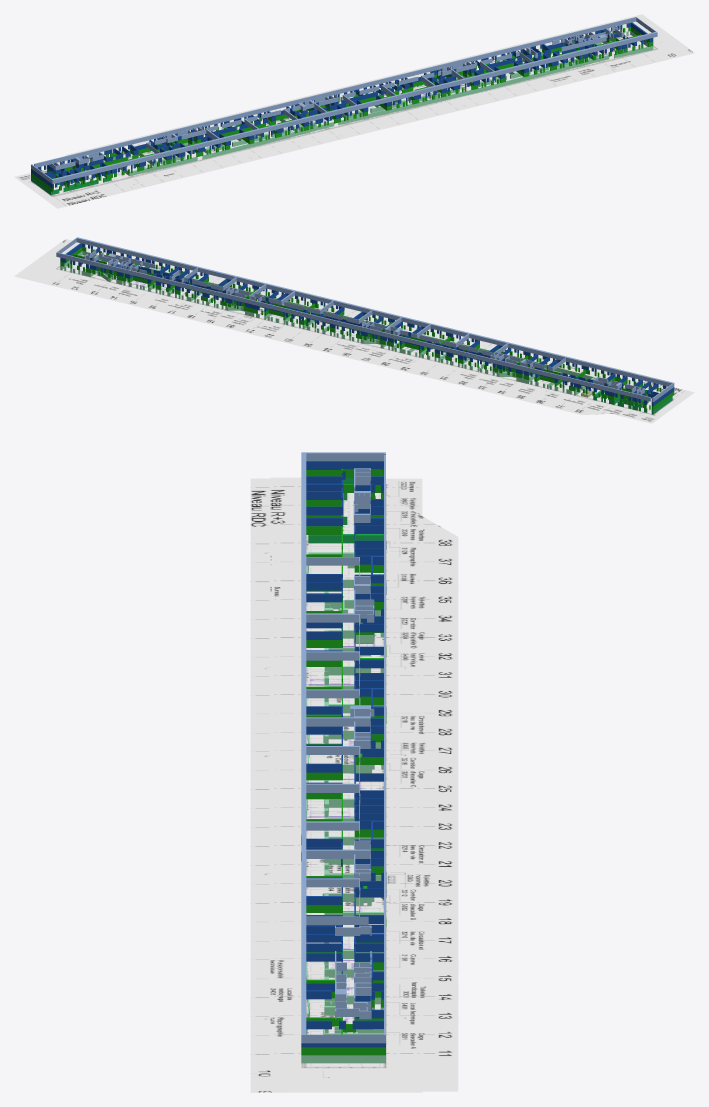
The model's file is hearc_1.obj.
3 renders of one model, top to bottom at view 1: azimuth 30°, elevation 25°; view 2: azimuth 150°, elevation 25°; view 3: azimuth 270°, elevation 25°, orthographic. The views are drawn at different scales.
Visible parts, largest first — view 1: Walls_3, Floor_3, Walls_2, Walls_1, Floor_0, Walls_0, Commerce_0; view 2: Floor_3, Walls_3, Walls_2, Walls_1, Walls_0, Floor_0, Commerce_0; view 3: Floor_3, Walls_2, Walls_3, Floor_0, Walls_1, Walls_0.
Part boxes in pixels (box(x1,y1,x2,y2)): Walls_3: box(31, 17, 657, 184); Floor_3: box(31, 14, 689, 204); Walls_2: box(31, 22, 653, 188); Walls_1: box(31, 27, 653, 192); Floor_0: box(14, 49, 694, 208); Walls_0: box(113, 31, 653, 176); Commerce_0: box(31, 162, 111, 195); Floor_3: box(14, 242, 689, 414); Walls_3: box(56, 237, 674, 402); Walls_2: box(60, 243, 674, 406); Walls_1: box(60, 247, 674, 410); Walls_0: box(60, 251, 595, 395); Floor_0: box(62, 239, 694, 423); Commerce_0: box(593, 385, 672, 414); Floor_3: box(270, 477, 458, 1091); Walls_2: box(301, 461, 386, 1047); Walls_3: box(301, 452, 385, 1043); Floor_0: box(250, 478, 422, 1092); Walls_1: box(301, 468, 386, 1055); Walls_0: box(301, 552, 385, 1063).
Bounding box in the file's own units: 7668 × 197 × 1098.
8 materials, 2 textured.
